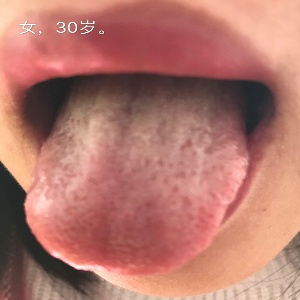st: (22, 81, 251, 282)
